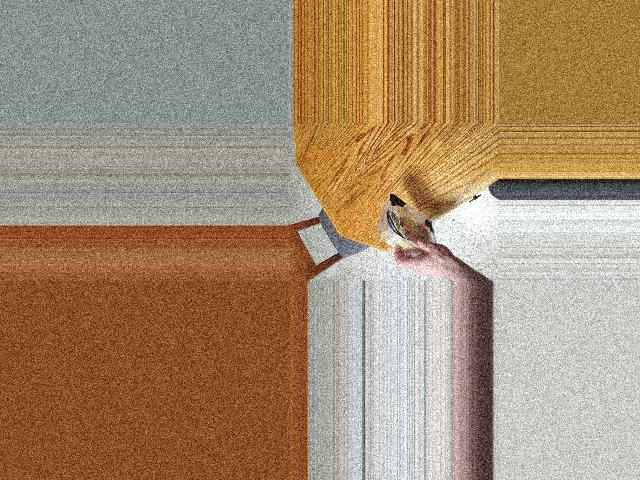cheese: (372, 197, 454, 252)
